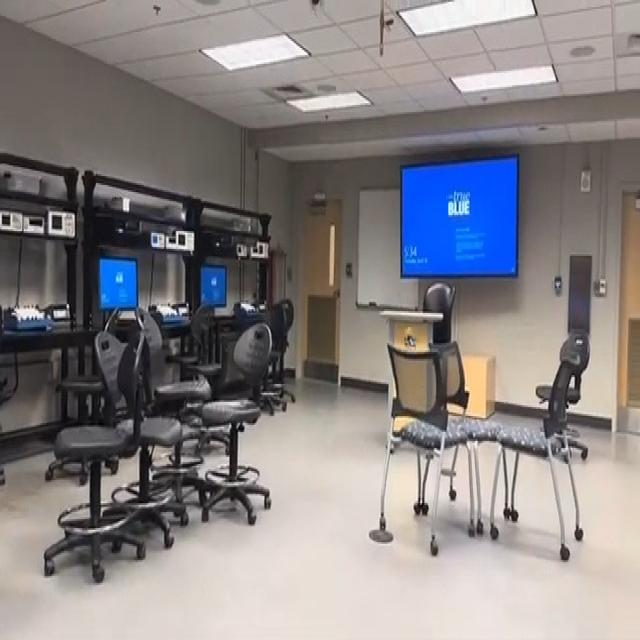drone: (392, 320, 421, 354)
